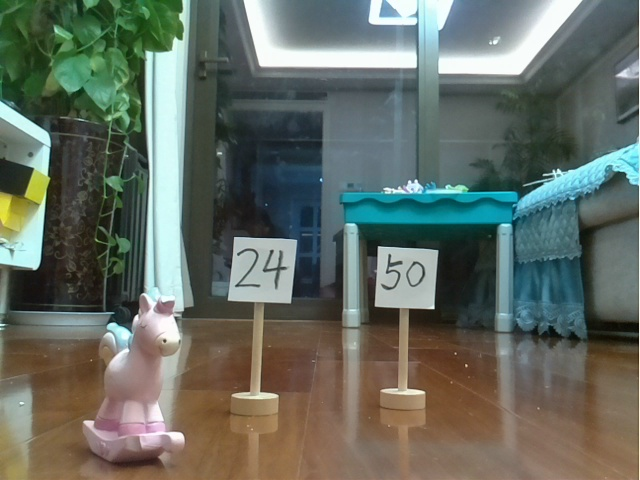Horse: (77, 290, 196, 465)
Speed Limit 24: (222, 232, 306, 429)
Speed Limit 50: (367, 240, 444, 411)
